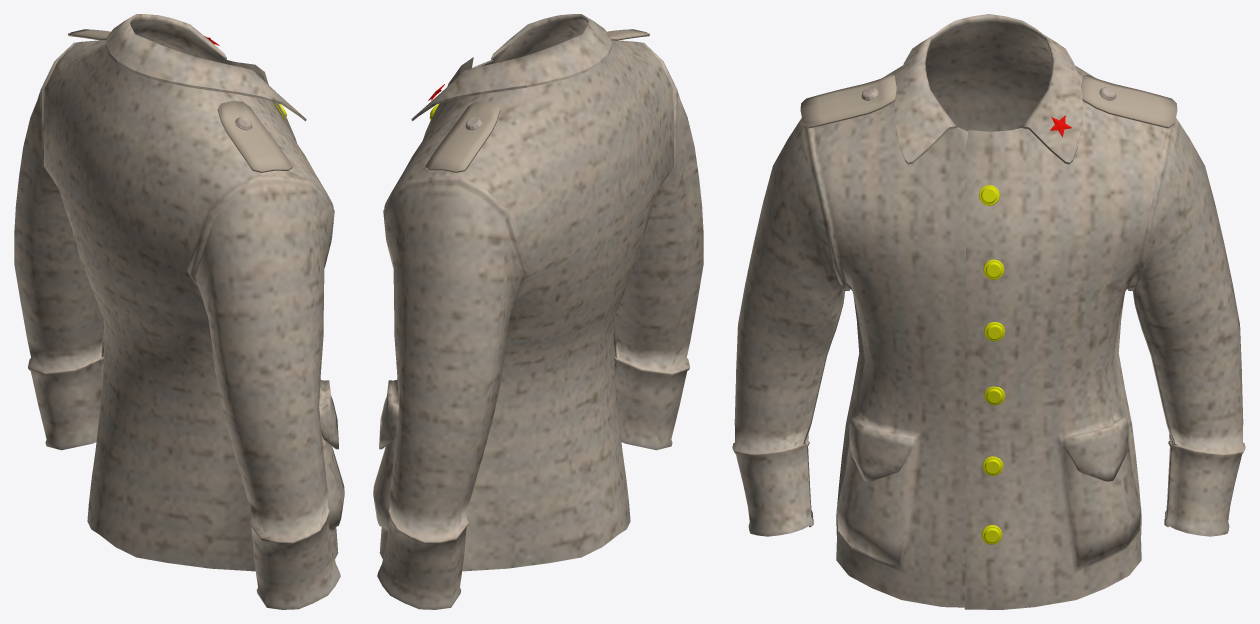
File: manteau.glb
The picture shows the model from 3 angles, left to right: view 1: azimuth 30°, elevation 25°; view 2: azimuth 150°, elevation 25°; view 3: azimuth 270°, elevation 25°; orthographic projection.
Parts seen in each view (by area): view 1: Cube; view 2: Cube; view 3: Cube, Cube.007.
Boxes of the visible parts, x1=… form: Cube: x1=14, y1=14, x2=344, y2=609; Cube: x1=373, y1=14, x2=703, y2=609; Cube: x1=732, y1=14, x2=1245, y2=609; Cube.007: x1=979, y1=185, x2=1004, y2=544.
Size of the model in its own units: 2.04 by 4.52 by 4.09.
Materials: 4 (2 with a texture image).
